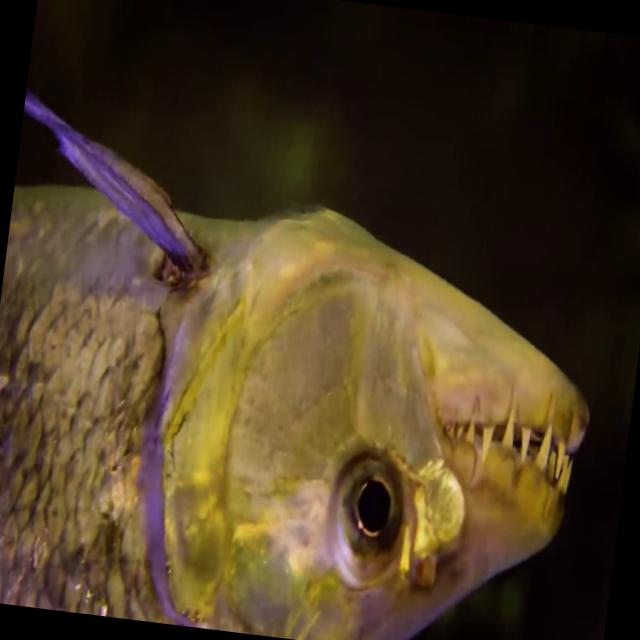fish: (0, 90, 621, 640)
